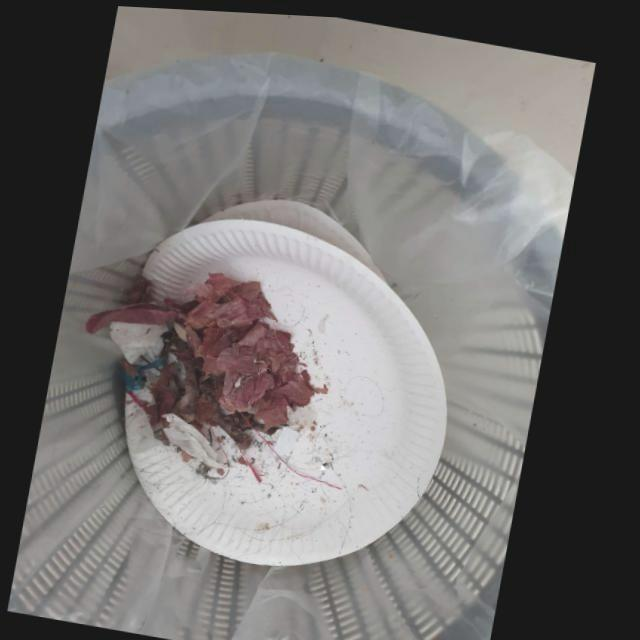cardboard: (129, 216, 453, 565), (205, 196, 394, 278), (113, 320, 171, 361)
left_over_food: (177, 328, 284, 446), (147, 358, 190, 426)
